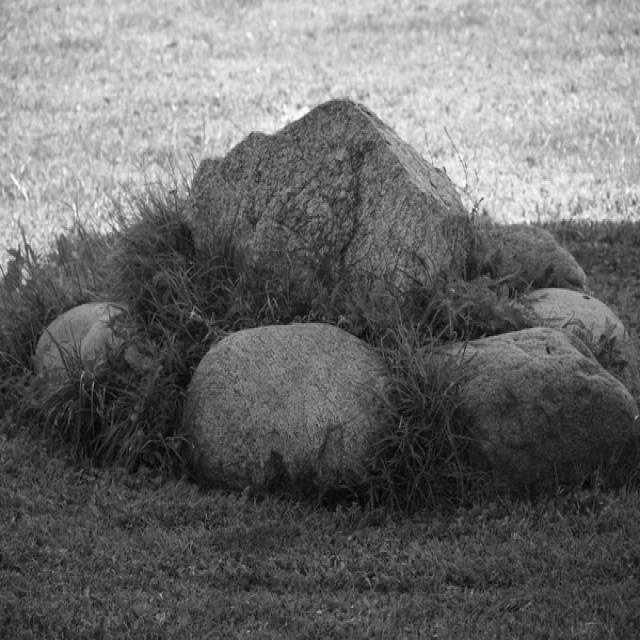Stone: (182, 98, 473, 290), (178, 316, 407, 493), (443, 328, 639, 498), (528, 288, 640, 389), (35, 302, 126, 372), (492, 224, 588, 290)
